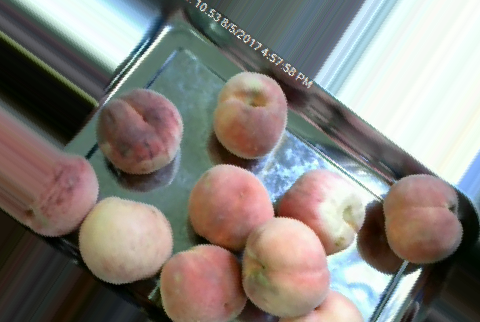Peach: (240, 217, 333, 317), (77, 196, 173, 284), (378, 172, 466, 266), (278, 167, 369, 257), (187, 163, 275, 253), (97, 88, 182, 176), (158, 241, 247, 321), (213, 71, 287, 158)
